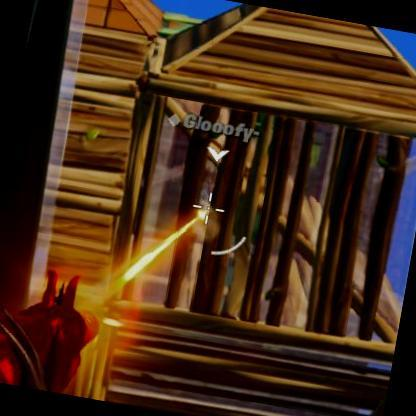Person: (184, 168, 220, 262)
